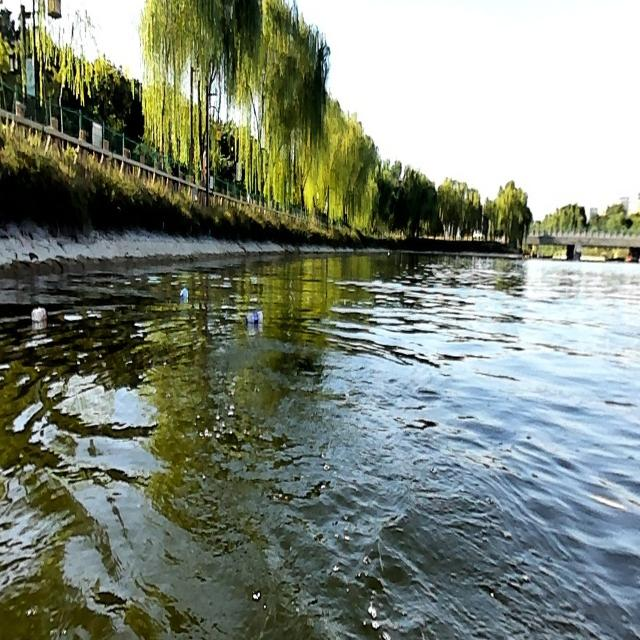bottle: (29, 302, 47, 322), (243, 308, 263, 325), (177, 283, 189, 300)
